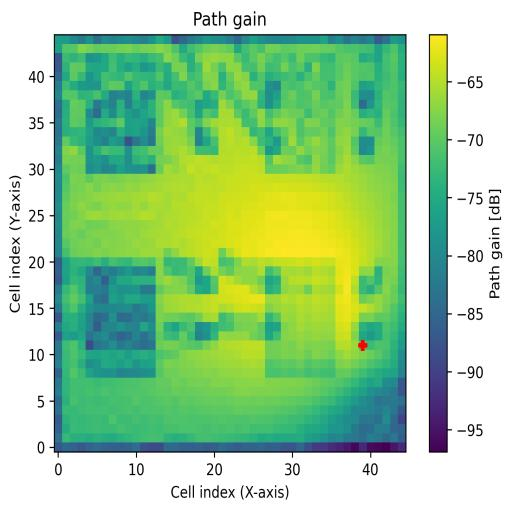Concrete: (266, 52, 336, 174)
Glass: (86, 53, 156, 174)
Metal: (265, 265, 336, 378)
Wood: (86, 267, 157, 379)
